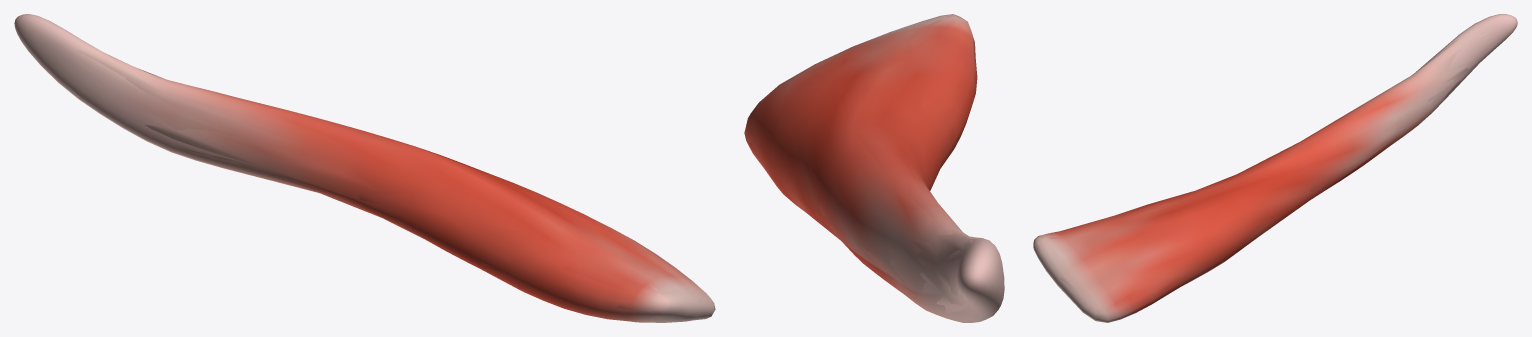
The model's file is R External Obturator.fbx.
The picture shows the model from 3 angles, left to right: view 1: azimuth 30°, elevation 25°; view 2: azimuth 150°, elevation 25°; view 3: azimuth 270°, elevation 25°; orthographic projection. The views are drawn at different scales.
Visible parts, largest first — view 1: R External Obturator low, R External Obturator; view 2: R External Obturator, R External Obturator low; view 3: R External Obturator, R External Obturator low.
Part boxes in pixels (x1,y1,x2,y2): R External Obturator low: (52, 23, 710, 320); R External Obturator: (14, 14, 715, 322); R External Obturator: (744, 14, 1004, 322); R External Obturator low: (746, 14, 1003, 313); R External Obturator: (1033, 14, 1517, 322); R External Obturator low: (1033, 20, 1506, 321).
Size of the model in its own units: 13.07 by 6 by 16.9.
